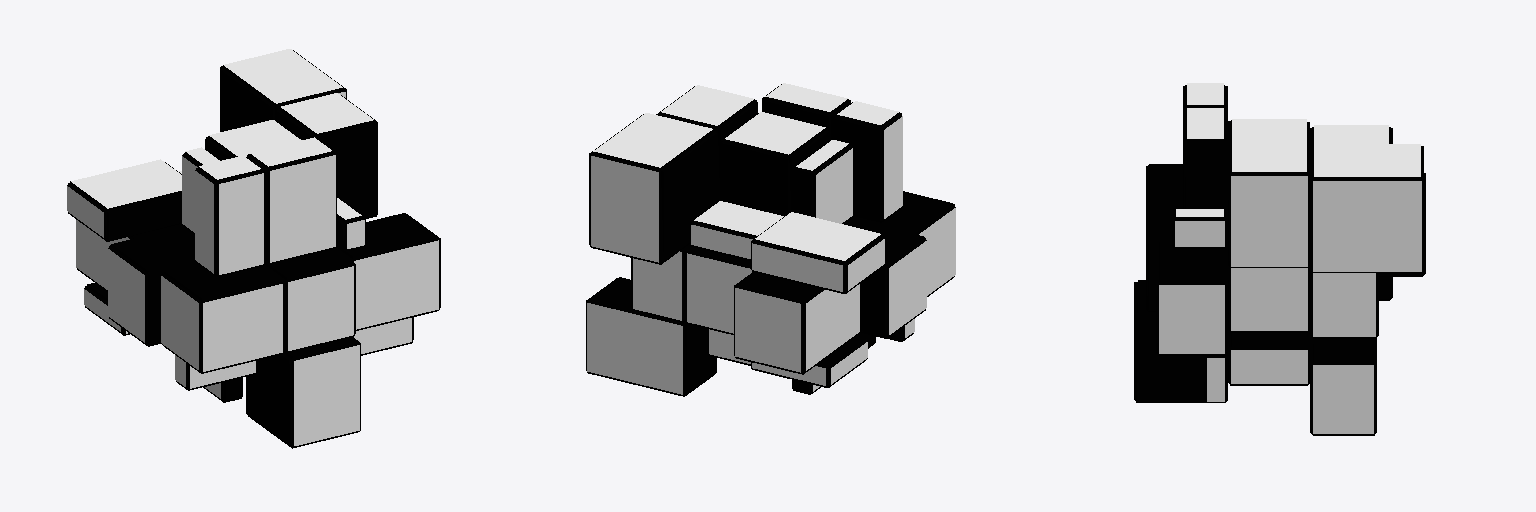
The model's file is MirrorCube.obj.
The picture shows the model from 3 angles: view 1: azimuth 30°, elevation 25°; view 2: azimuth 150°, elevation 25°; view 3: azimuth 270°, elevation 25°; orthographic projection.
Parts seen in each view (by area): view 1: Mirror_Cube group20 group18 pCube82, group21 Mirror_Cube group18 pCube83, Mirror_Cube group20 pCube84 group18, Mirror_Cube group19 group18 pCube83, Mirror_Cube group19 group18 pCube82, Mirror_Cube group16 group19 pCube82, Mirror_Cube group20 group18 pCube83, Mirror_Cube group19 pCube84 group17, Mirror_Cube group20 group17 pCube82, Mirror_Cube pCube84 group16 group19, Mirror_Cube group19 group17 pCube83, Mirror_Cube group16 group20 pCube82 (+6 smaller); view 2: Mirror_Cube pCube84 group16 group19, Mirror_Cube group16 group20 pCube82, pCube84 group16 group21 Mirror_Cube, Mirror_Cube group16 group19 pCube82, Mirror_Cube group19 group17 pCube83, Mirror_Cube group19 group18 pCube82, Mirror_Cube group20 group17 pCube82, Mirror_Cube group19 group17 pCube82, Mirror_Cube group16 group20 pCube83, Mirror_Cube group20 group18 pCube82, Mirror_Cube group16 group19 pCube83, Mirror_Cube pCube84 group16 group20 (+4 smaller); view 3: Mirror_Cube pCube84 group16 group19, Mirror_Cube group19 pCube84 group17, Mirror_Cube group20 pCube84 group18, pCube84 group16 group21 Mirror_Cube, Mirror_Cube group20 pCube84 group17, group21 Mirror_Cube group18 pCube83, Mirror_Cube pCube84 group16 group20, Mirror_Cube group19 group18 pCube83, group21 Mirror_Cube pCube84 group17, Mirror_Cube group19 pCube84 group18, Mirror_Cube group19 group17 pCube83, Mirror_Cube group20 group18 pCube83 (+4 smaller).
Part boxes in pixels (x1,y1,x2,y2): Mirror_Cube group20 group18 pCube82: (161,263,283,373); group21 Mirror_Cube group18 pCube83: (246,337,360,448); Mirror_Cube group20 pCube84 group18: (335,213,440,330); Mirror_Cube group19 group18 pCube83: (247,137,336,264); Mirror_Cube group19 group18 pCube82: (195,156,265,276); Mirror_Cube group16 group19 pCube82: (67,159,181,241); Mirror_Cube group20 group18 pCube83: (264,249,355,352); Mirror_Cube group19 pCube84 group17: (277,93,377,218); Mirror_Cube group20 group17 pCube82: (108,227,196,346); Mirror_Cube pCube84 group16 group19: (220,49,346,131); Mirror_Cube group19 group17 pCube83: (205,120,301,160); Mirror_Cube group16 group20 pCube82: (76,220,181,291); Mirror_Cube pCube84 group16 group19: (589,113,716,264); Mirror_Cube group16 group20 pCube82: (734,272,859,374); pCube84 group16 group21 Mirror_Cube: (586,277,716,396); Mirror_Cube group16 group19 pCube82: (751,212,884,293); Mirror_Cube group19 group17 pCube83: (720,112,828,215); Mirror_Cube group19 group18 pCube82: (833,101,902,222); Mirror_Cube group20 group17 pCube82: (844,219,926,338); Mirror_Cube group19 group17 pCube82: (792,140,852,223); Mirror_Cube group16 group20 pCube83: (686,247,751,334); Mirror_Cube group20 group18 pCube82: (851,191,955,296); Mirror_Cube group16 group19 pCube83: (690,201,783,260); Mirror_Cube pCube84 group16 group20: (631,244,690,322); Mirror_Cube pCube84 group16 group19: (1310,144,1423,272); Mirror_Cube group19 pCube84 group17: (1228,144,1309,267); Mirror_Cube group20 pCube84 group18: (1156,240,1227,355); pCube84 group16 group21 Mirror_Cube: (1310,336,1376,435); Mirror_Cube group20 pCube84 group17: (1228,266,1309,332); group21 Mirror_Cube group18 pCube83: (1134,280,1204,402); Mirror_Cube pCube84 group16 group20: (1310,270,1378,338); Mirror_Cube group19 group18 pCube83: (1183,108,1227,210); group21 Mirror_Cube pCube84 group17: (1228,330,1309,385); Mirror_Cube group19 pCube84 group18: (1172,209,1227,248); Mirror_Cube group19 group17 pCube83: (1228,120,1309,145); Mirror_Cube group20 group18 pCube83: (1146,205,1182,311).
Size of the model in its own units: 3.78 by 3.53 by 3.53.